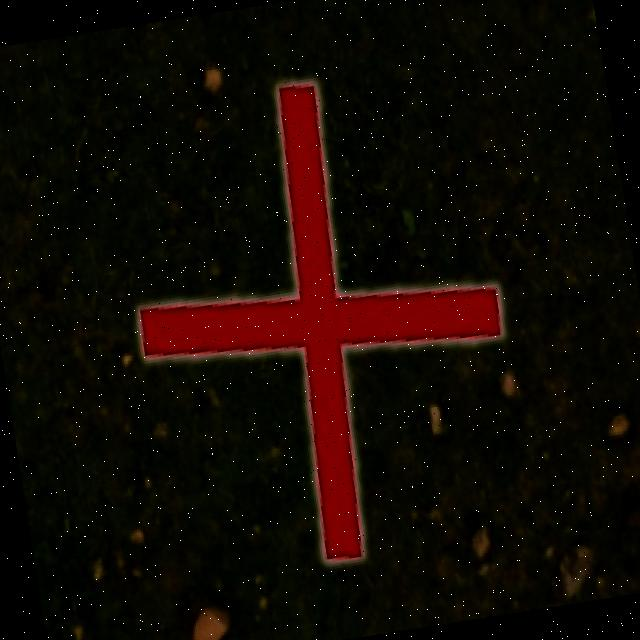x_marker: (106, 59, 534, 584)
